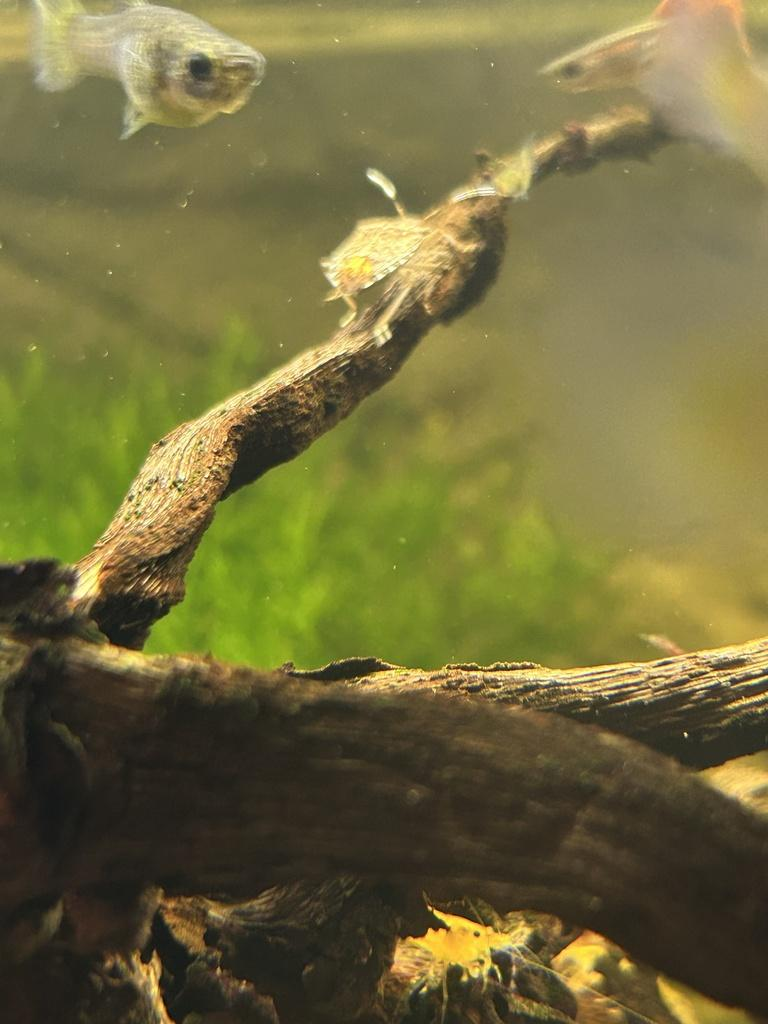stink_bugs: (278, 148, 514, 367)
